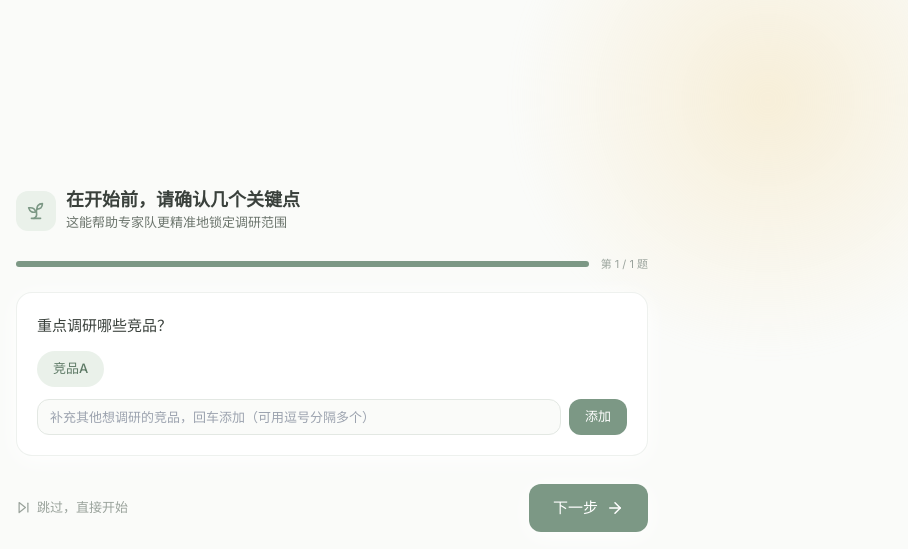
Test: T-Wizard 分步向导 + 核对屏 › TC-W5 competitors 自定义输入在核对屏仍可添加
The image size is (908, 549).
Expected: the text "重点调研哪些竞品？" is shown, [37,316,172,335]
Click the button "下一步": click(588, 508) [529,484,648,532]
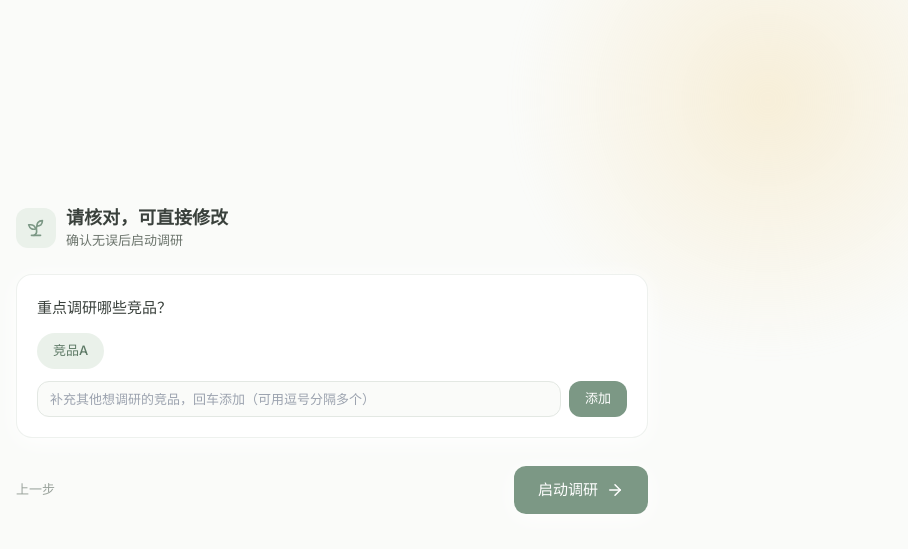
Now the text "请核对，可直接修改" is shown, box [66,206,228,230]
In the field with placeholder "补充其他想调研的竞品，回车添加（可用逗号分隔多个）": (299, 399) [37,381,561,417], type "自研新品"
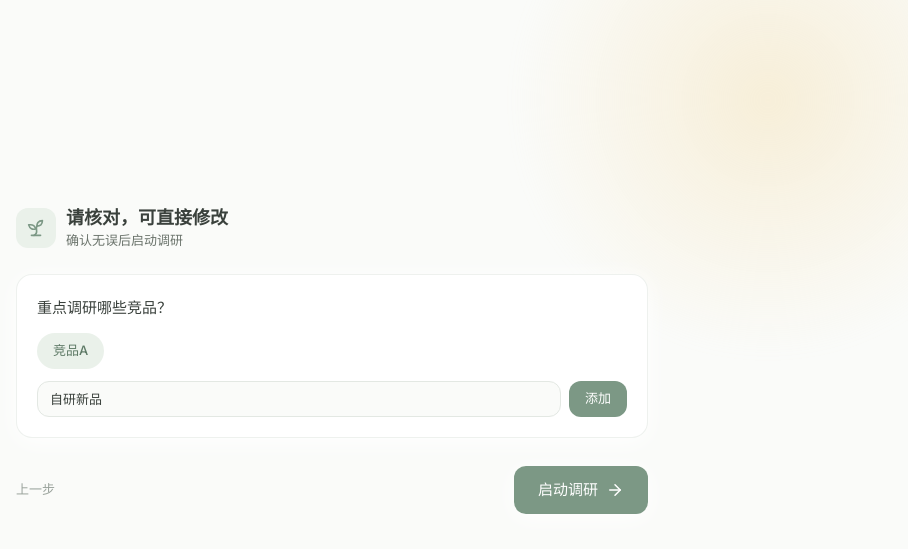
Click the button "添加": click(598, 399) [569,381,627,417]
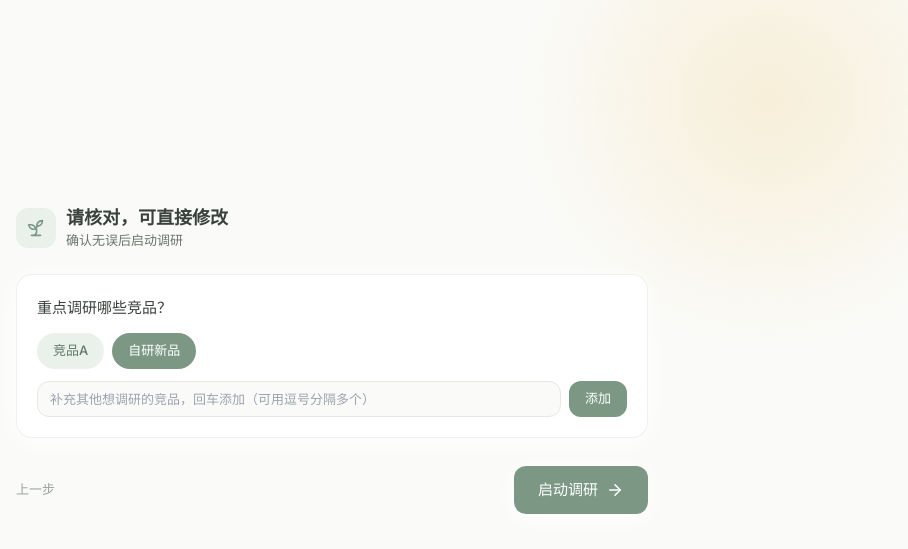
Now the button "自研新品" is shown, box [112,333,196,369]
